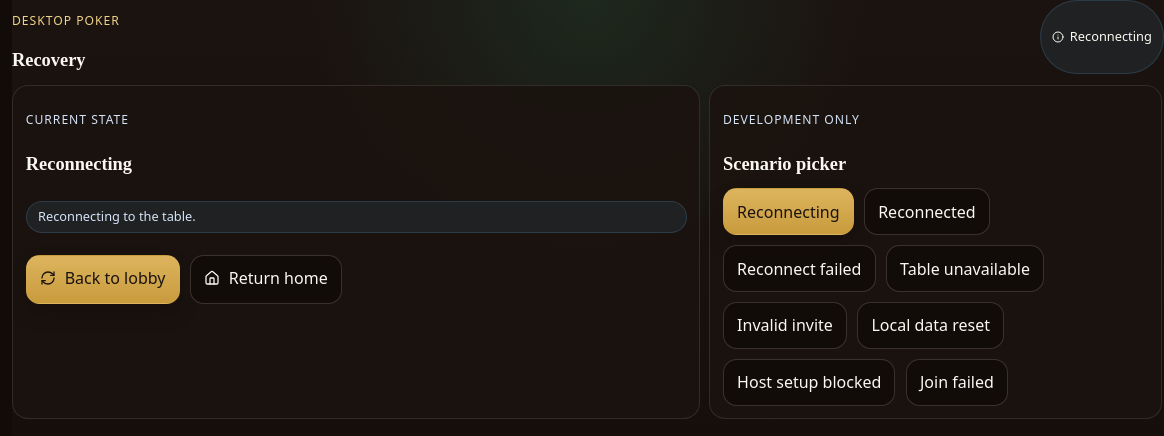
ErrorStateScreen › keeps the scenario picker available only for debug review
Expected: the text "Reconnecting to the table." is shown, x1=26 y1=201 x2=687 y2=233
Click the button "Reconnect failed" at (799, 269), box x1=723 y1=245 x2=876 y2=292
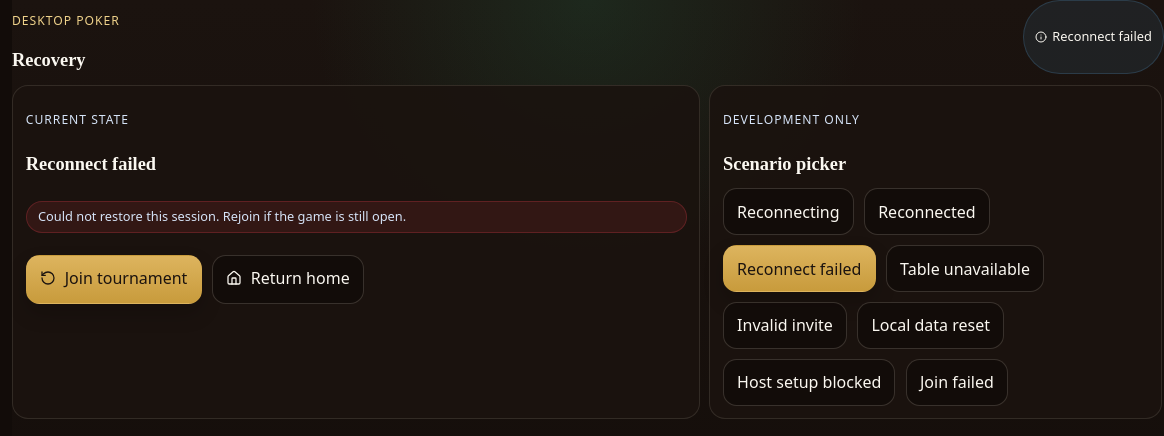
Expected: the text "Could not restore this session" is shown, x1=38 y1=207 x2=406 y2=225
